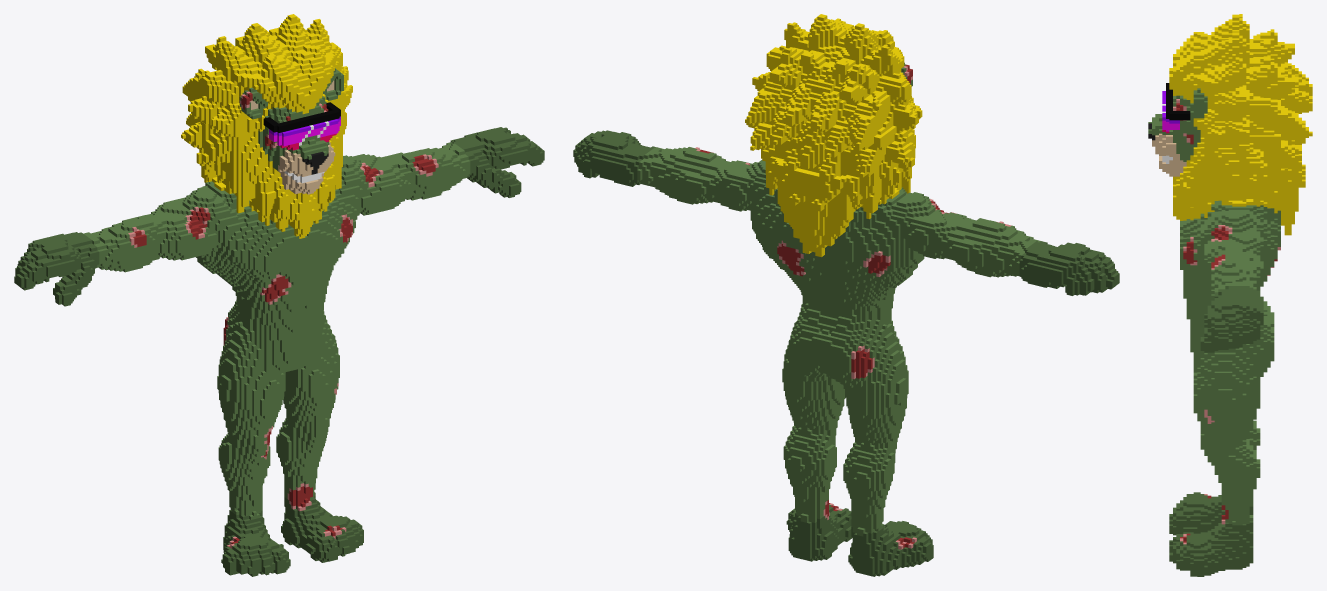
Rendered from 344-Dhfq3NVx.glb.
3 renders of one model, left to right at view 1: azimuth 30°, elevation 25°; view 2: azimuth 150°, elevation 25°; view 3: azimuth 270°, elevation 25°, orthographic. The views are drawn at different scales.
Visible parts, largest first — view 1: big_smile; view 2: big_smile; view 3: big_smile.
Part boxes in pixels (x1,y1,x2,y2): big_smile: [14, 14, 544, 576]; big_smile: [573, 14, 1119, 576]; big_smile: [1148, 14, 1312, 576].
Size of the model in its own units: 17.2 by 16.5 by 4.7.
4 materials, 4 textured.
